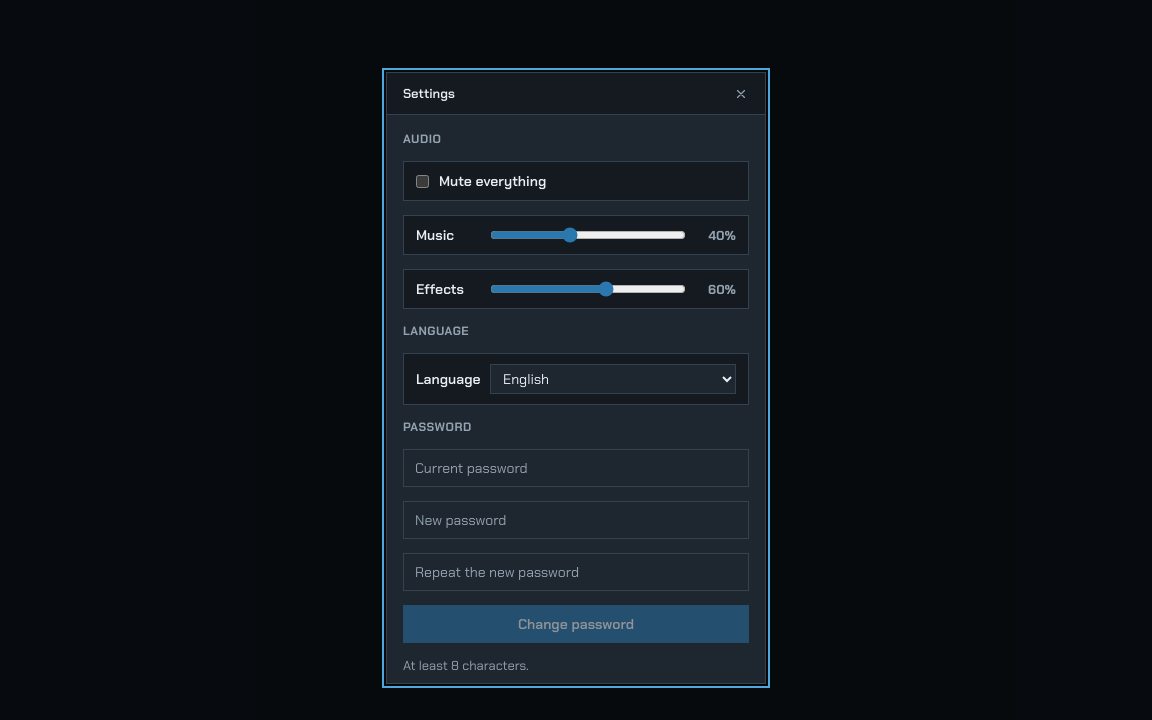
Test: SettingsModal › asks for the new password twice before changing it
Step 1. Type "old" into the password field with placeholder "Current password" → (576, 468), box x1=403 y1=449 x2=749 y2=487
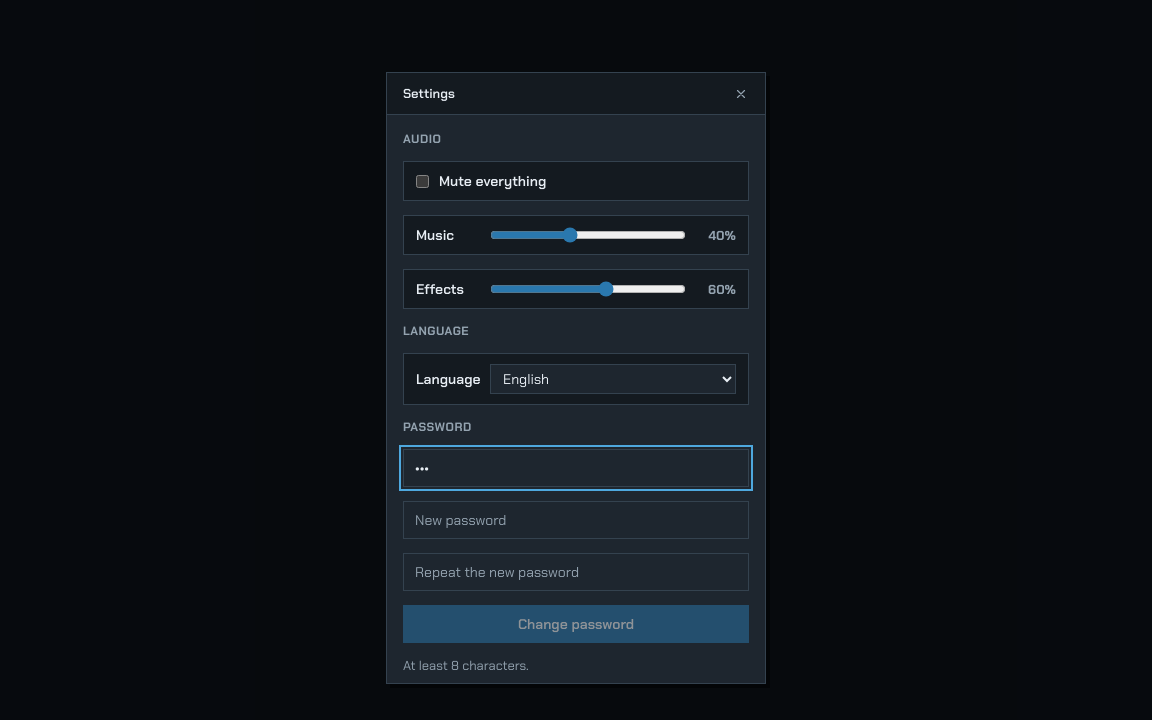
Step 2. Type "longenough1" into the password field with placeholder "New password" → (576, 520), box x1=403 y1=501 x2=749 y2=539
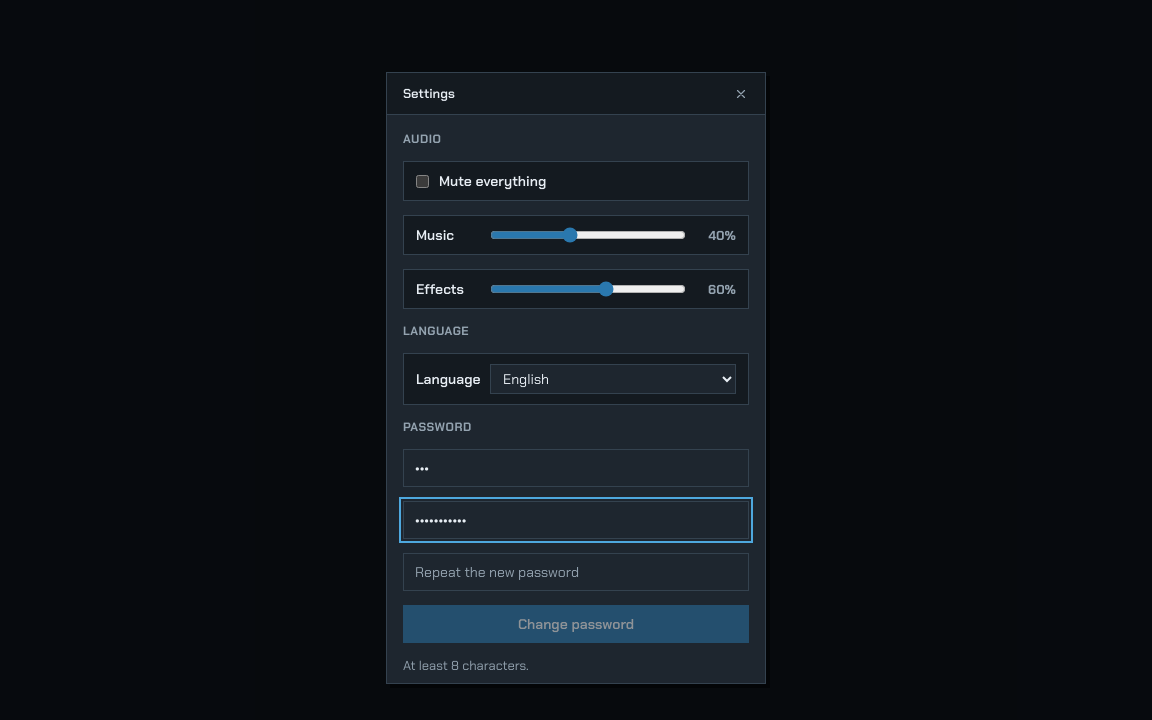
Step 3. Type "longenough2" into the password field with placeholder "Repeat the new password" → (576, 572), box x1=403 y1=553 x2=749 y2=591
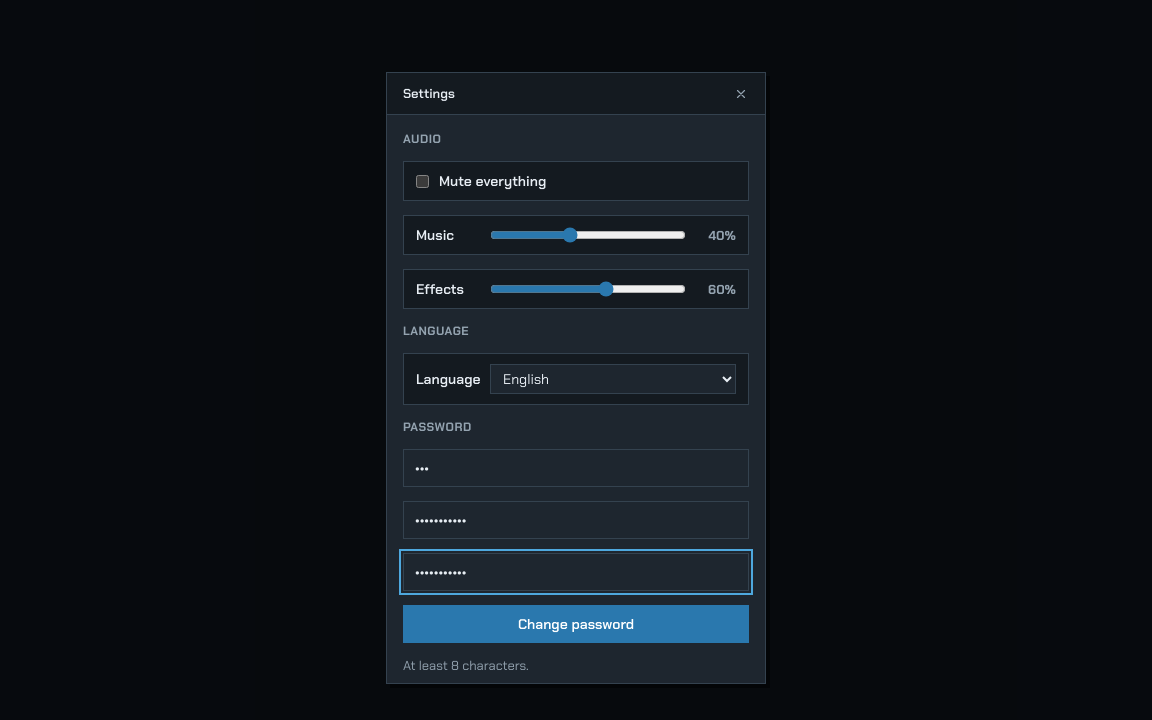
Step 4. Click the button "Change password" → (576, 624), box x1=403 y1=605 x2=749 y2=643
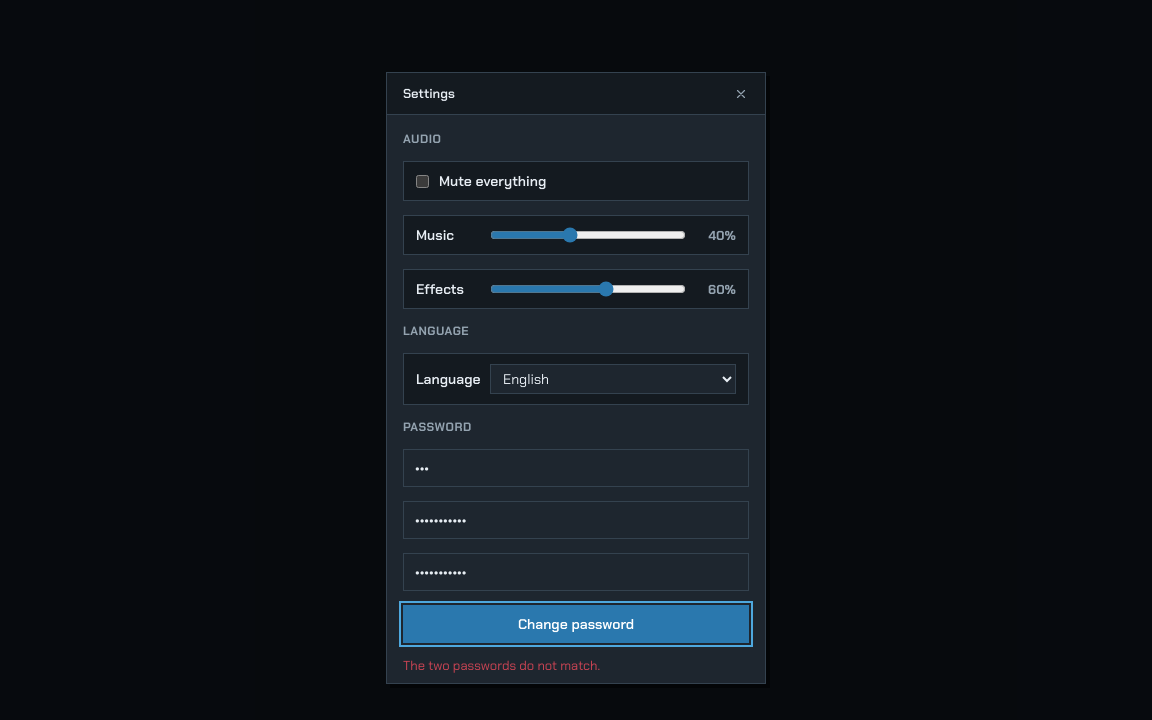
Expected: the text "The two passwords do not match." is shown, x1=403 y1=657 x2=600 y2=674
